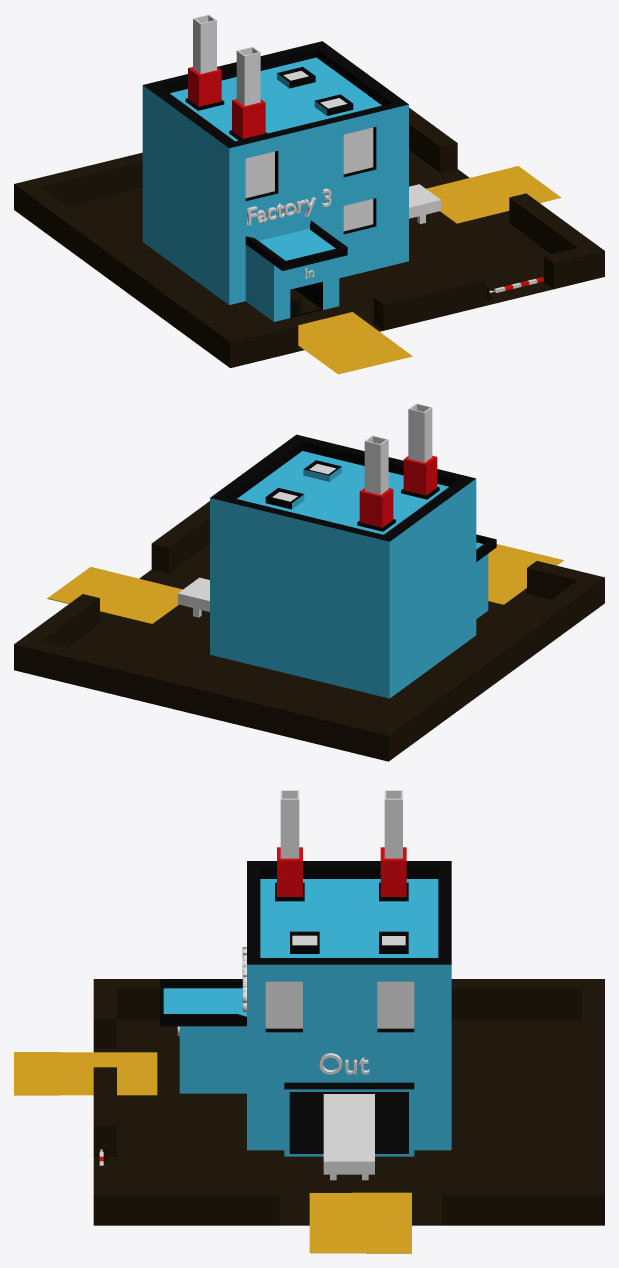
Rendered from Factory3.fbx.
The picture shows the model from 3 angles, top to bottom: view 1: azimuth 30°, elevation 25°; view 2: azimuth 150°, elevation 25°; view 3: azimuth 270°, elevation 25°; orthographic projection. The views are drawn at different scales.
Parts seen in each view (by area): view 1: Building.002, Fence.002, Factory.006; view 2: Building.002, Fence.002; view 3: Fence.002, Building.002.
Boxes of the visible parts, x1,y1,x2,y2 form: Building.002: (142, 14, 440, 321); Fence.002: (14, 107, 604, 374); Factory.006: (247, 188, 331, 225); Building.002: (178, 403, 496, 698); Fence.002: (14, 501, 604, 761); Fence.002: (14, 979, 604, 1253); Building.002: (160, 790, 451, 1180).
Size of the model in its own units: 564 by 298 by 578.
